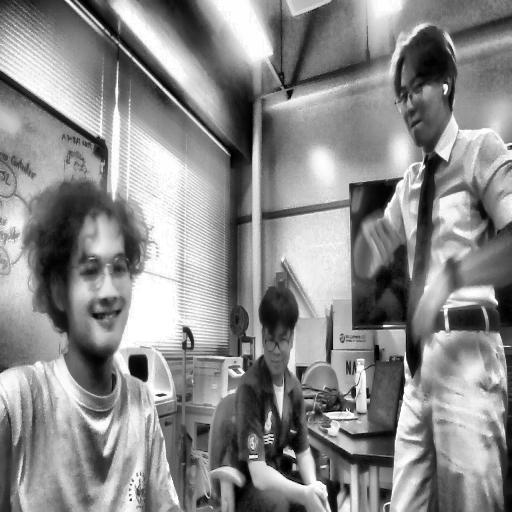Daifuku: (29, 178, 148, 367)
Not Daifuku: (391, 24, 455, 150), (258, 278, 298, 378)
